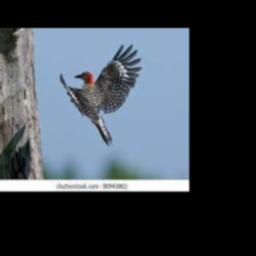Woodpecker: (60, 44, 143, 146)
